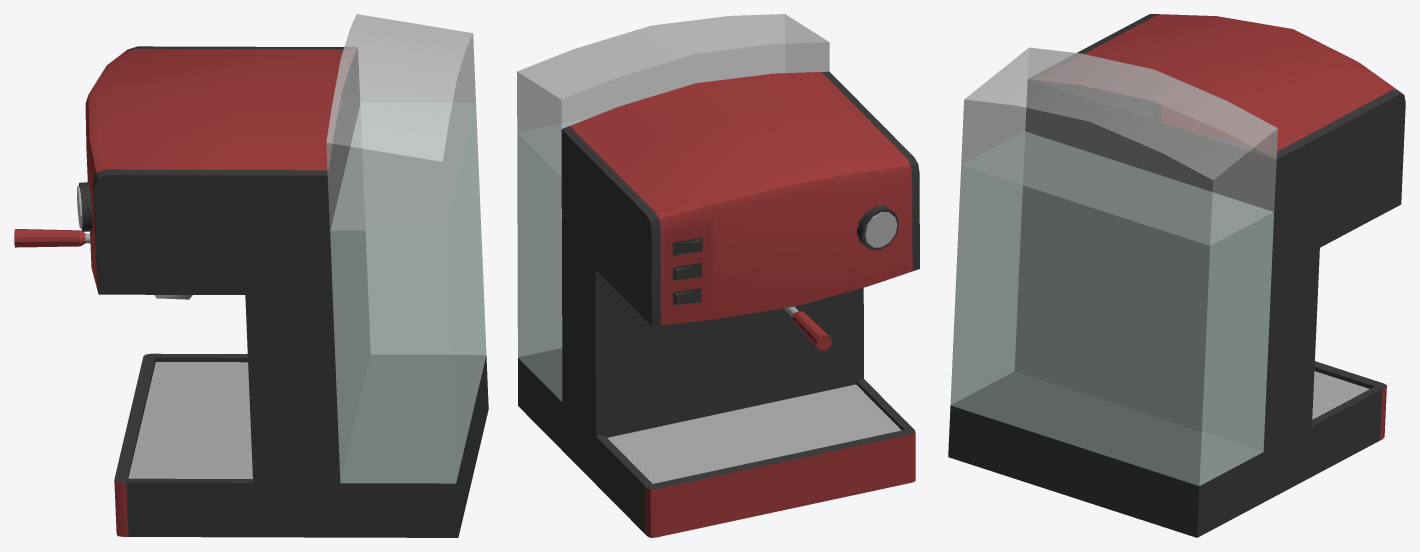
Rendered from coffeemachine.gltf.
3 renders of one model, left to right at view 1: azimuth 30°, elevation 25°; view 2: azimuth 150°, elevation 25°; view 3: azimuth 270°, elevation 25°, orthographic. The views are drawn at different scales.
Visible parts, largest first — view 1: coffeemachine; view 2: coffeemachine; view 3: coffeemachine.
Part boxes in pixels (x1,y1,x2,y2): coffeemachine: [14, 14, 488, 537]; coffeemachine: [517, 14, 919, 537]; coffeemachine: [948, 14, 1405, 537].
Bounding box in the file's own units: 0.4251 × 0.4111 × 0.4252.
